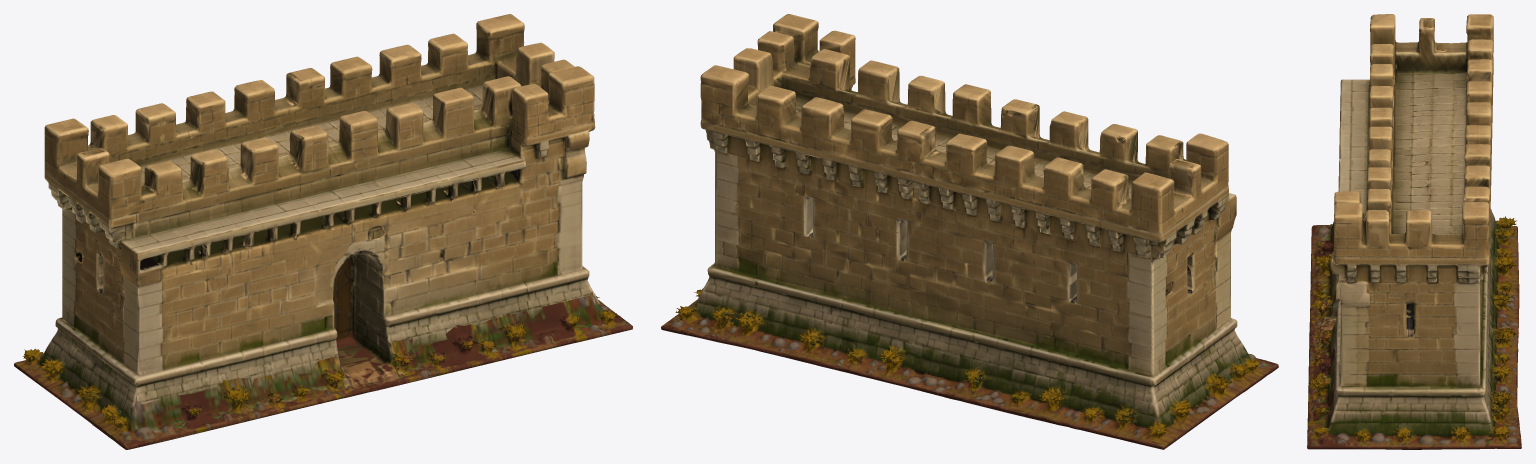
File: SM_MurallaDePiedra.fbx
The picture shows the model from 3 angles, left to right: view 1: azimuth 30°, elevation 25°; view 2: azimuth 150°, elevation 25°; view 3: azimuth 270°, elevation 25°; orthographic projection. The views are drawn at different scales.
Visible parts, largest first — view 1: SM_MurallaDePiedra; view 2: SM_MurallaDePiedra; view 3: SM_MurallaDePiedra.
Part boxes in pixels (bbox=[...]): SM_MurallaDePiedra: bbox=[14, 14, 632, 449]; SM_MurallaDePiedra: bbox=[661, 14, 1278, 449]; SM_MurallaDePiedra: bbox=[1307, 14, 1521, 449].
Size of the model in its own units: 99.95 by 47.17 by 40.87.
1 material, 1 textured.
